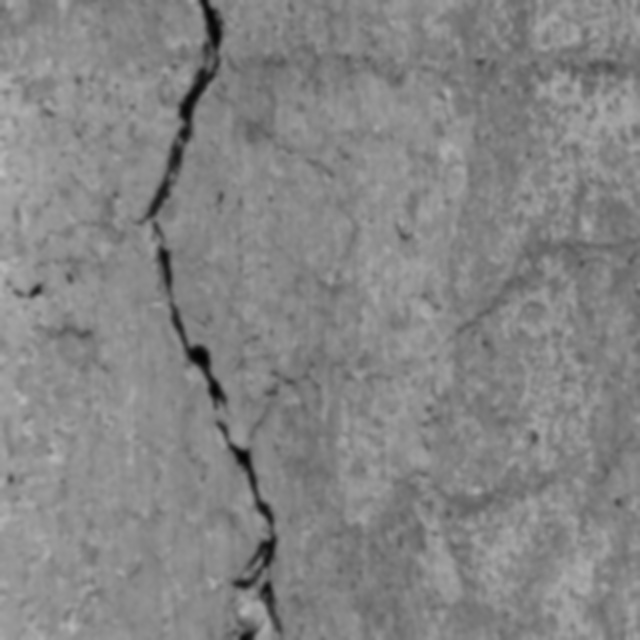SurfaceCrack: (108, 2, 321, 640)
